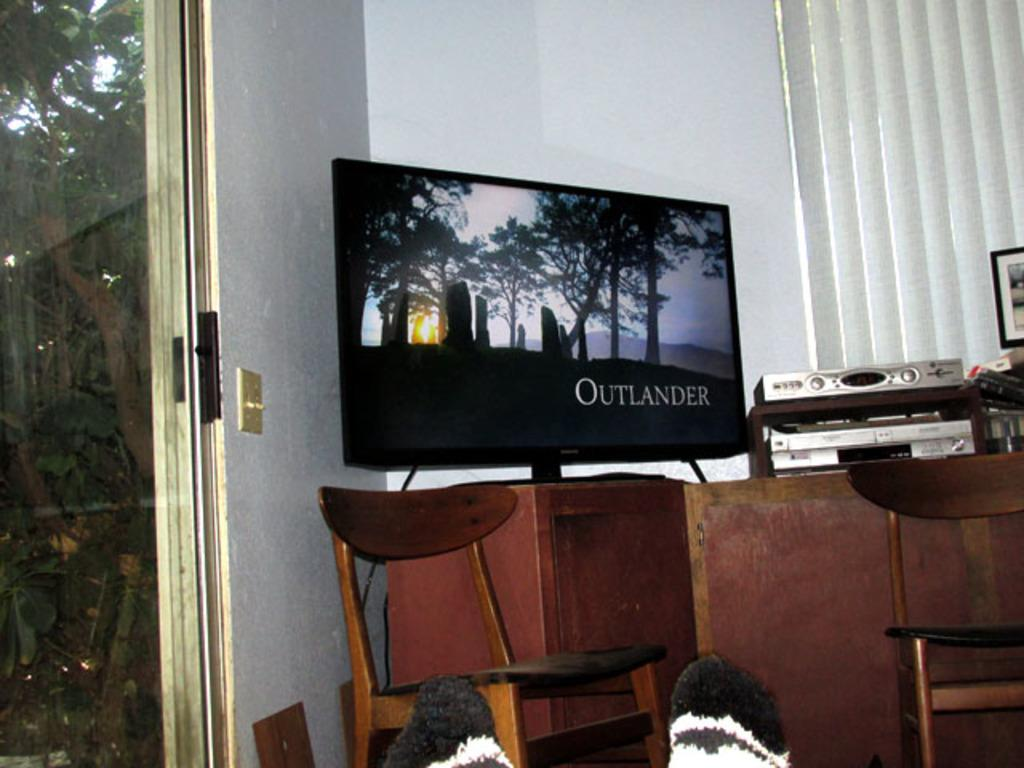Chair: (309, 462, 656, 744), (846, 456, 1022, 766)
